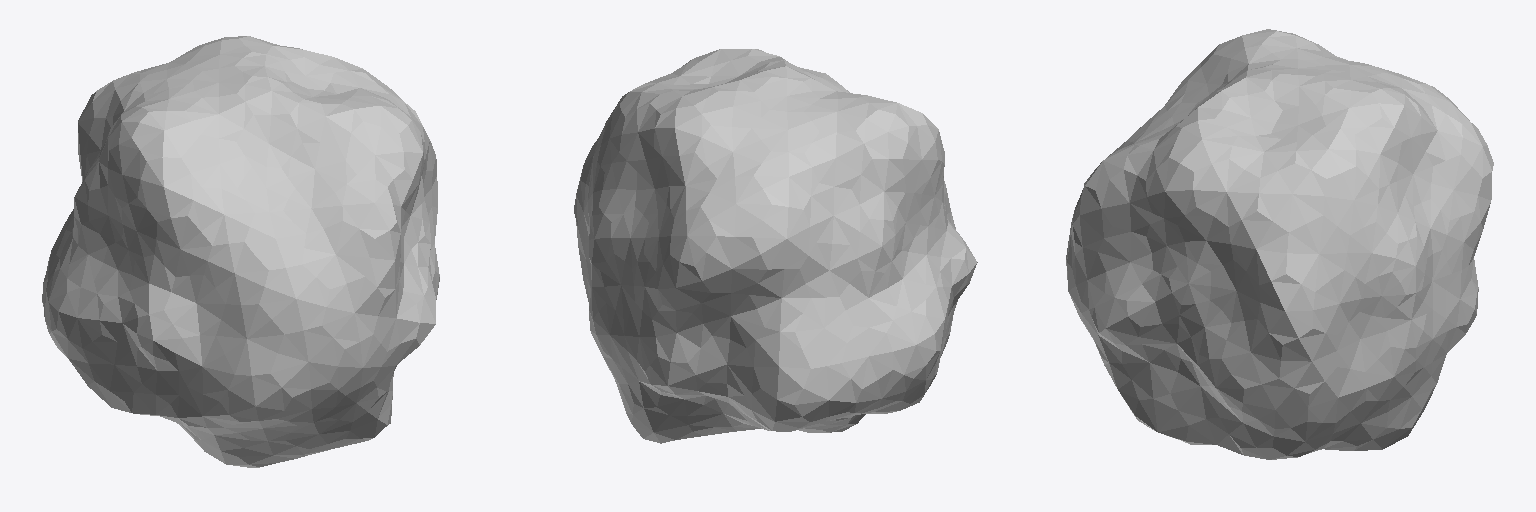
The model's file is asteroid3.obj.
3 renders of one model, left to right at view 1: azimuth 30°, elevation 25°; view 2: azimuth 150°, elevation 25°; view 3: azimuth 270°, elevation 25°, orthographic.
Parts seen in each view (by area): view 1: Asteroid3; view 2: Asteroid3; view 3: Asteroid3.
Part boxes in pixels (bbox=[...]): Asteroid3: bbox=[42, 36, 439, 467]; Asteroid3: bbox=[574, 49, 977, 443]; Asteroid3: bbox=[1066, 29, 1493, 459].
Bounding box in the file's own units: 2.05 × 1.92 × 2.06.